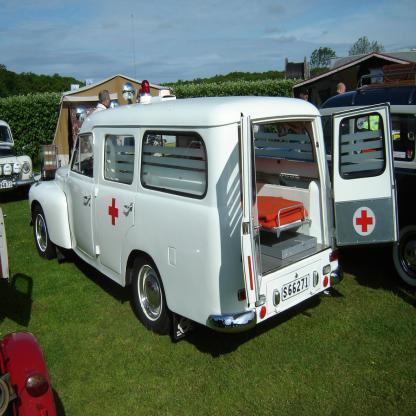Ambulance - v1 Ambulance last generate: (30, 75, 405, 346)
